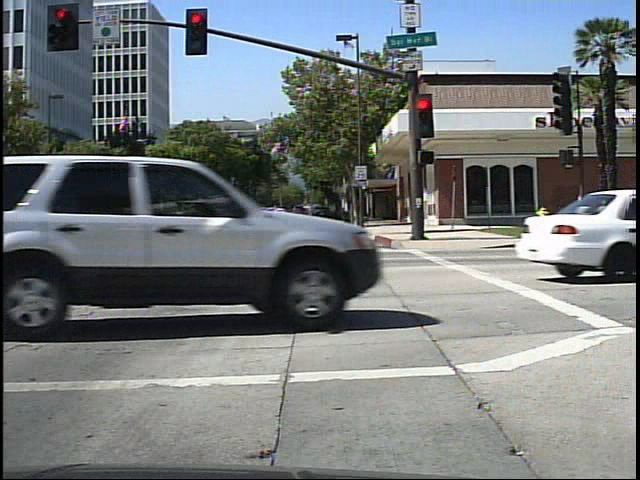person: (267, 205, 279, 224)
